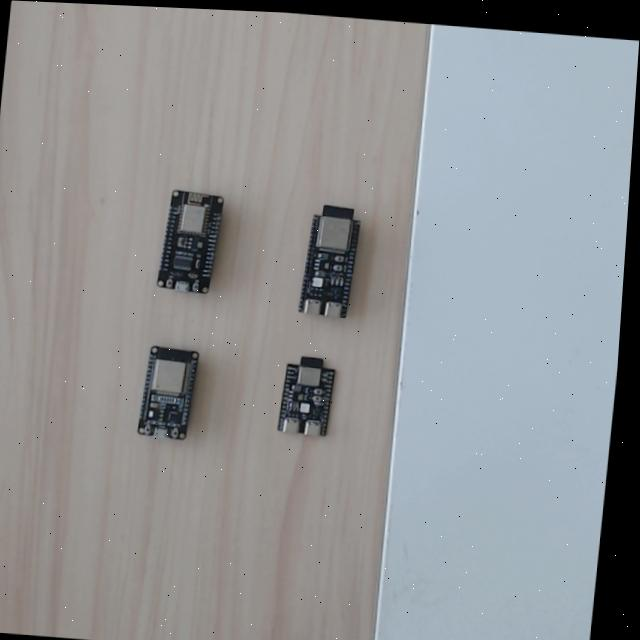ESP32-DevKit: (134, 342, 198, 442)
ESP32C3-DevKit: (273, 353, 339, 439)
ESP32S3-Devkit: (293, 198, 364, 320)
ESP8266-NodeMCU: (152, 184, 226, 296)
